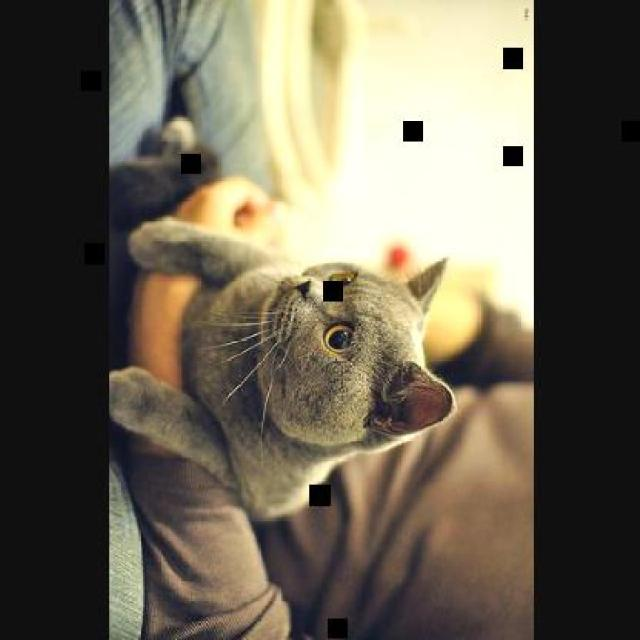unauthorized: (110, 214, 456, 521)
